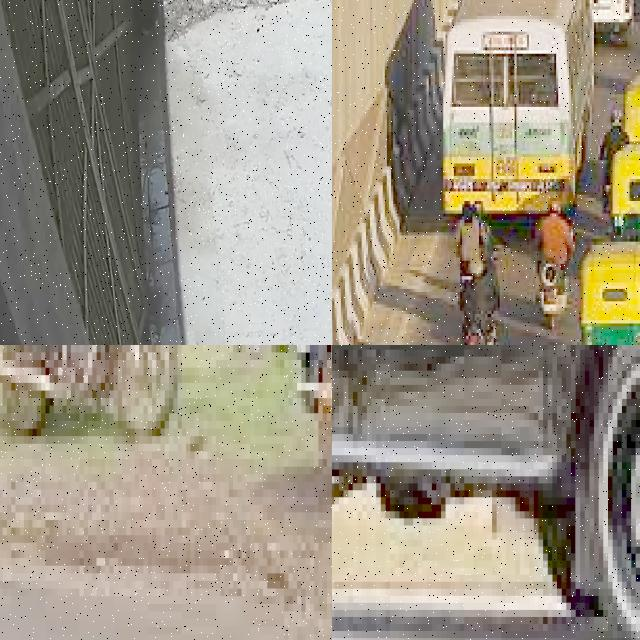bike: (0, 345, 186, 444), (280, 345, 332, 535), (533, 257, 571, 333), (460, 326, 497, 345)
car: (332, 345, 640, 610)
